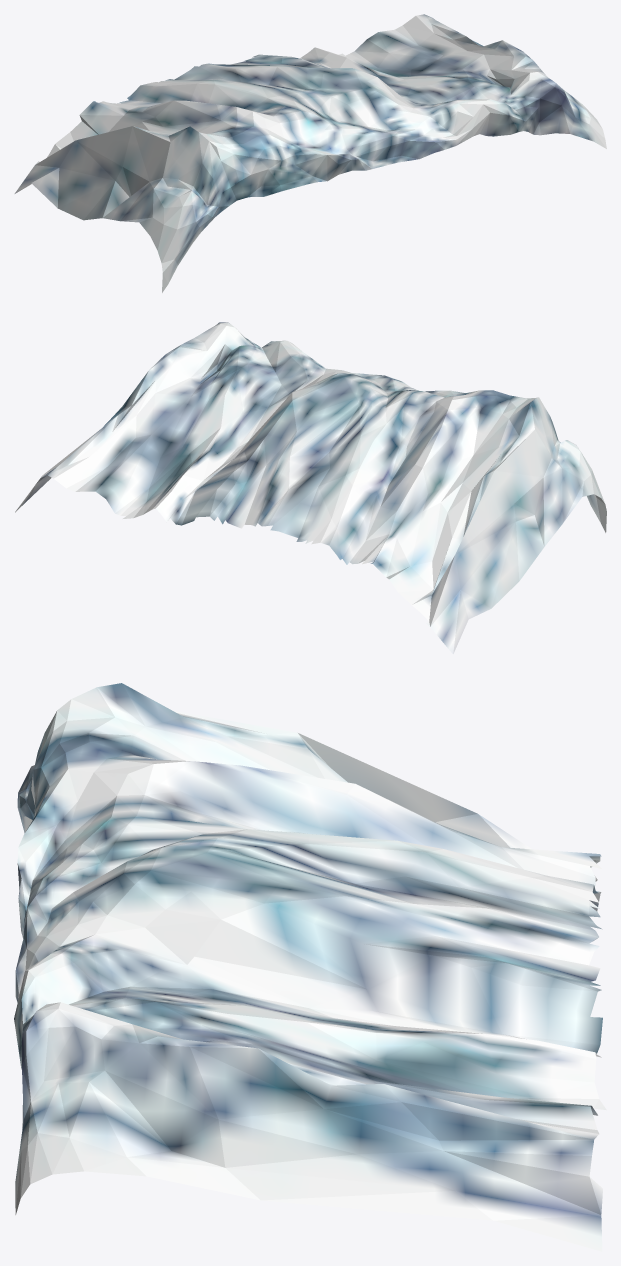
File: FridgeIceBot.fbx
3 renders of one model, top to bottom at view 1: azimuth 30°, elevation 25°; view 2: azimuth 150°, elevation 25°; view 3: azimuth 270°, elevation 25°, orthographic. The views are drawn at different scales.
Parts seen in each view (by area): view 1: FridgeIceBot; view 2: FridgeIceBot; view 3: FridgeIceBot.
Boxes of the visible parts, x1,y1,x2,y2 form: FridgeIceBot: (14,14,606,292); FridgeIceBot: (15,322,606,654); FridgeIceBot: (14,683,606,1251).
Bounding box in the file's own units: 67.12 × 21.51 × 41.53.
